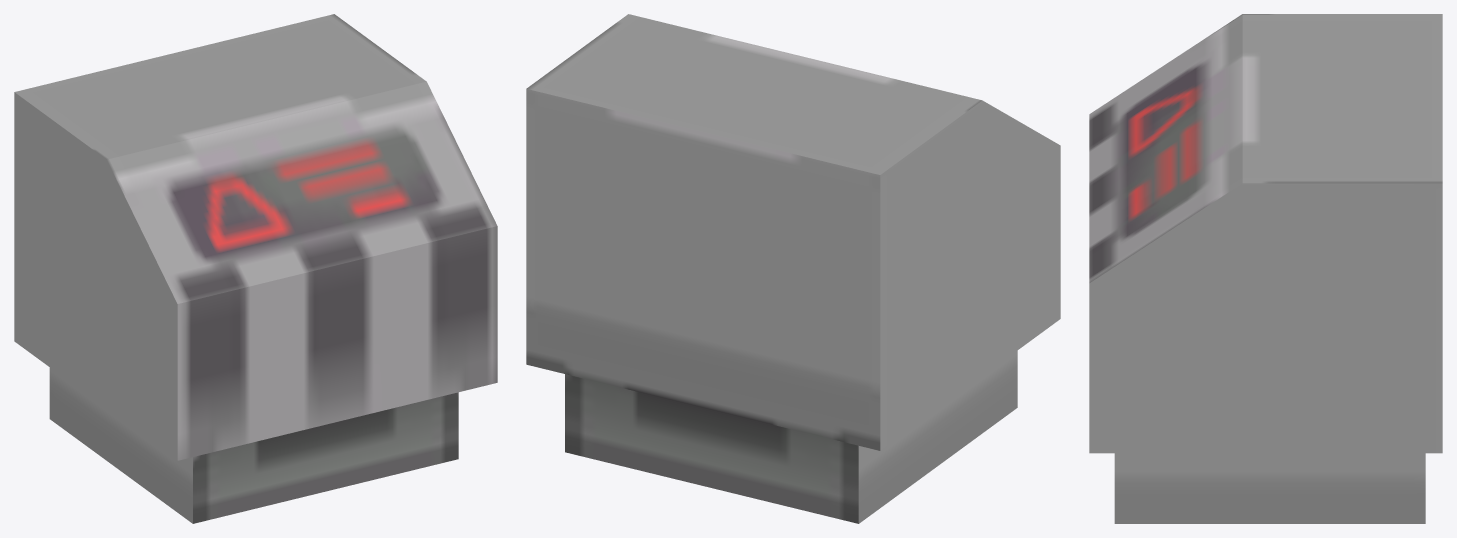
File: Building_AncientEnemyTerminal.glb
The picture shows the model from 3 angles, left to right: view 1: azimuth 30°, elevation 25°; view 2: azimuth 150°, elevation 25°; view 3: azimuth 270°, elevation 25°; orthographic projection. The views are drawn at different scales.
Visible parts, largest first — view 1: AncientEnemyTerminal; view 2: AncientEnemyTerminal; view 3: AncientEnemyTerminal.
Boxes of the visible parts, x1=… form: AncientEnemyTerminal: x1=14, y1=14, x2=497, y2=523; AncientEnemyTerminal: x1=526, y1=14, x2=1060, y2=523; AncientEnemyTerminal: x1=1089, y1=14, x2=1442, y2=523.
Bounding box in the file's own units: 0.94 × 0.92 × 0.83.
Materials: 1 (1 with a texture image).
